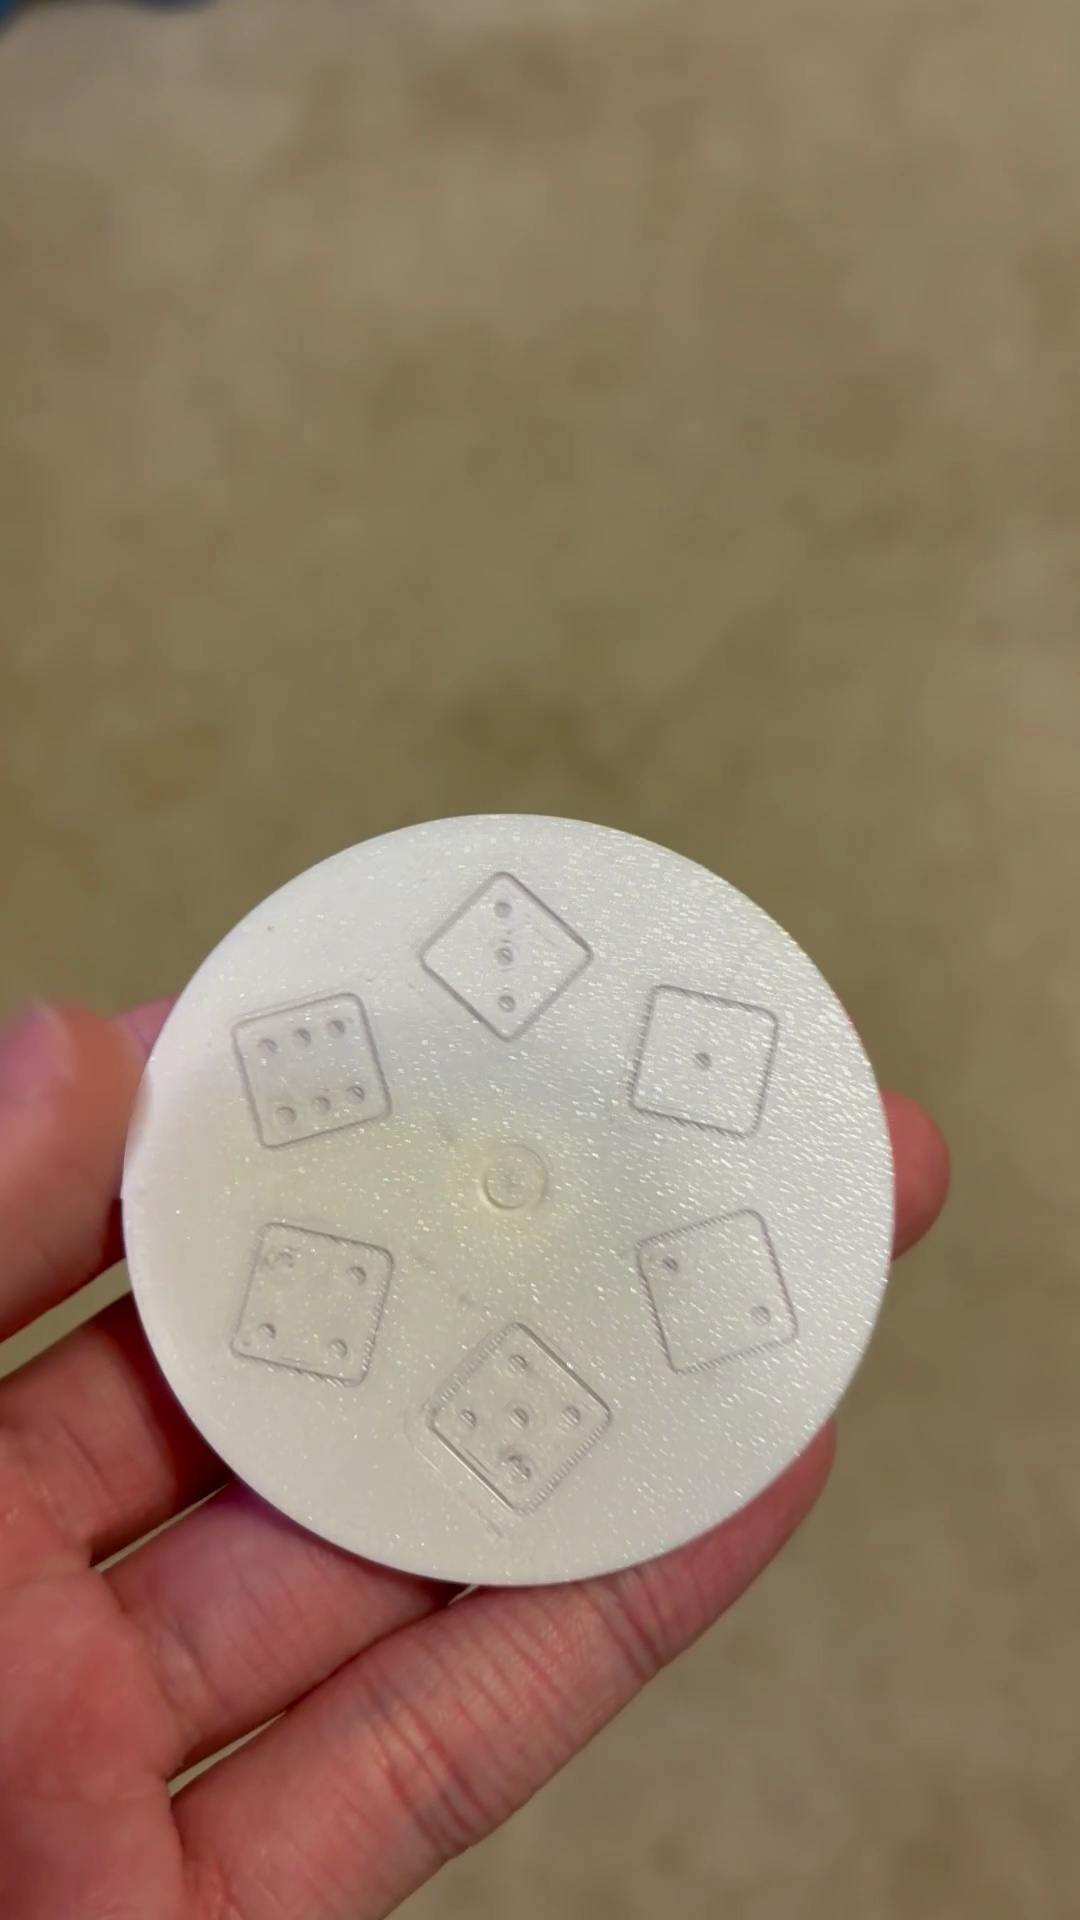Part1: (123, 816, 891, 1585)
